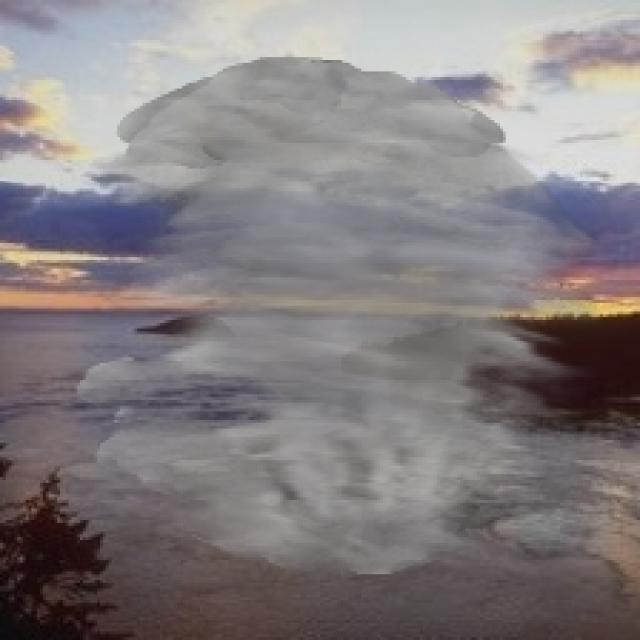smoke: (74, 57, 603, 577)
